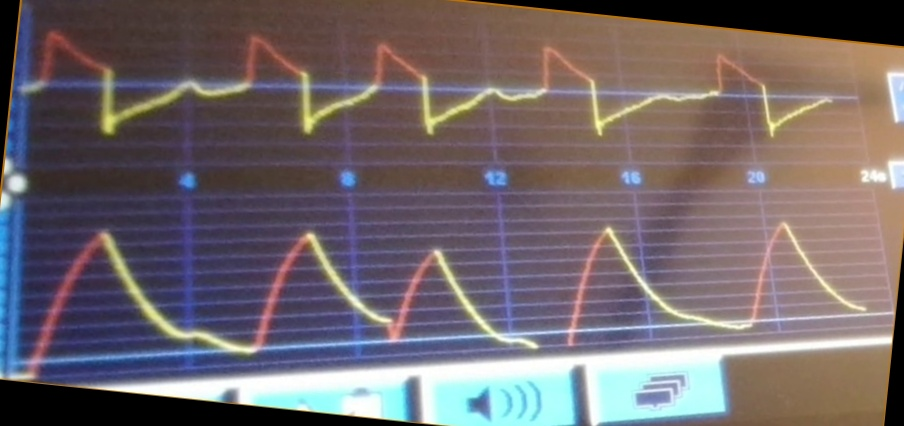Ineffective_effort Flow: (32, 24, 830, 145)
Ineffective_effort Volume: (18, 216, 863, 361)
